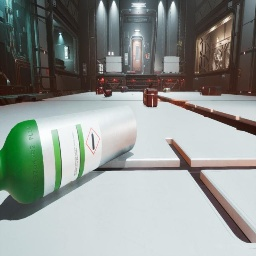0: (0, 105, 137, 204), (163, 88, 170, 92), (162, 71, 168, 73), (162, 72, 169, 73)
EmergencyPhone ,: (237, 67, 242, 77), (147, 52, 150, 58), (84, 76, 86, 82), (148, 54, 149, 55), (85, 78, 86, 79)
FireAlarm ,: (46, 67, 49, 74), (146, 54, 147, 58)
FireExtinguisher ]: (102, 90, 112, 97)
FirstAidBox ,: (143, 83, 158, 107), (96, 85, 103, 95), (163, 86, 169, 92)
NitrogenTank ,: (200, 86, 222, 96), (120, 86, 128, 93), (127, 71, 136, 74)
SafetySwitchPanel ,: (64, 46, 69, 59), (82, 63, 87, 75), (125, 53, 128, 65)
